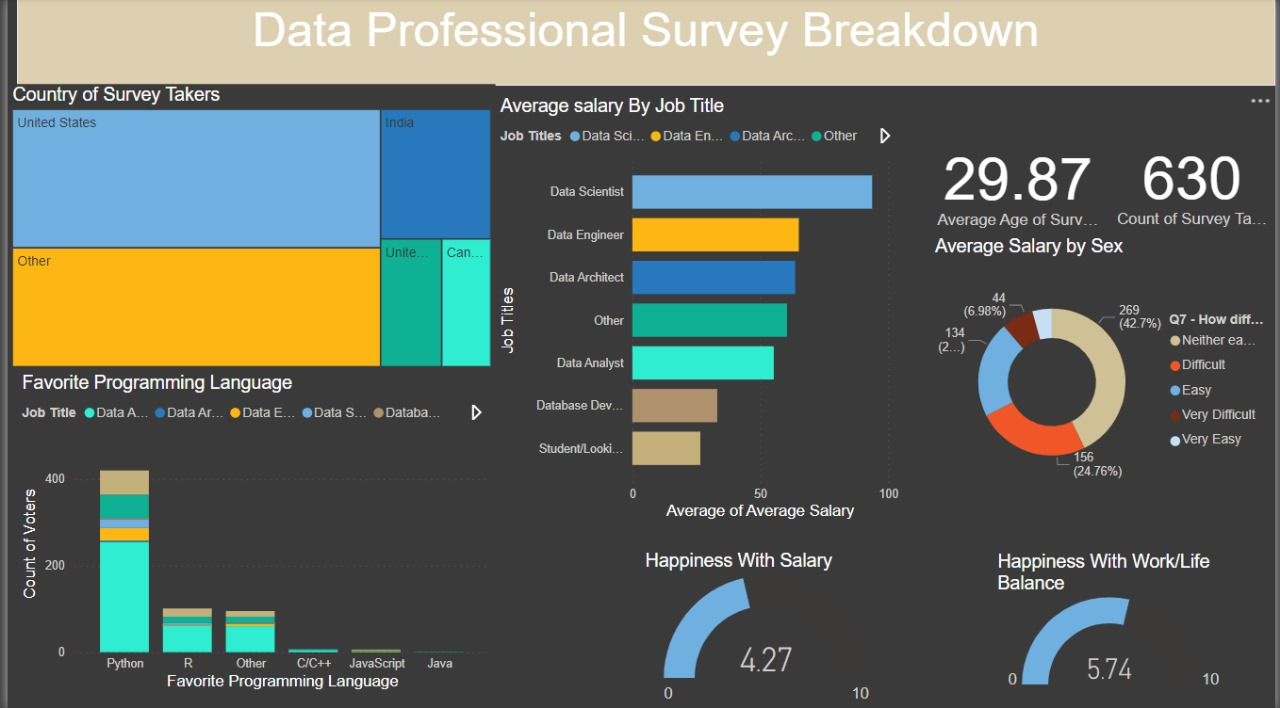

The page's visual inventory and layout, read from the dashboard file:
{"tool":"powerbi","page":{"name":"Page 1","canvas":[1280,720],"ordinal":0},"visuals":[{"type":"textbox","box":[9.6,0,1270.7,87.8],"z":0},{"type":"card","fields":{"Values":["Count(Data Professional Survey.Unique ID)"]},"box":[1112.5,110.4,167.7,150.5],"z":1000},{"type":"card","fields":{"Values":["Avg(Data Professional Survey.Q10 - Current Age)"]},"box":[931.9,111.8,177.8,149.1],"z":2000},{"type":"barChart","title":"Average salary By Job Title","fields":{"Category":["Data Professional Survey.Q1 - Which Title Best Fits your Current Role?.1"],"Y":["Avg(Data Professional Survey.Average Salary)"],"Series":["Data Professional Survey.Q1 - Which Title Best Fits your Current Role?.1"]},"box":[493.2,98.9,412.9,433],"z":3000},{"type":"columnChart","title":"  Favorite Programming Language","fields":{"Category":["Data Professional Survey.Q5 - Favorite Programming Language.1"],"Y":["CountNonNull(Data Professional Survey.Unique ID)"],"Series":["Data Professional Survey.Q1 - Which Title Best Fits your Current Role?.1"]},"box":[10,378.5,483.2,325.4],"z":4000},{"type":"treemap","title":"Country of Survey Takers","fields":{"Group":["Data Professional Survey.Q11 - Which Country do you live in?.1"],"Values":["CountNonNull(Data Professional Survey.Q11 - Which Country do you live in?.1)"]},"box":[0,87.5,493.2,291],"z":5000},{"type":"gauge","title":"Happiness With Salary","fields":{"Y":["Avg(Data Professional Survey.Q6 - How Happy are you in your Current Position with the following? (Salary))"],"MinValue":["Min(Data Professional Survey.Q6 - How Happy are you in your Current Position with the following? (Salary))"],"MaxValue":["Max(Data Professional Survey.Q6 - How Happy are you in your Current Position with the following? (Salary))"]},"box":[639.4,557.7,255.2,162],"z":5001},{"type":"gauge","title":"Happiness  With Work/Life Balance","fields":{"Y":["Avg(Data Professional Survey.Q6 - How Happy are you in your Current Position with the following? (Work/Life Balance))"],"MinValue":["Min(Data Professional Survey.Q6 - How Happy are you in your Current Position with the following? (Work/Life Balance))"],"MaxValue":["Max(Data Professional Survey.Q6 - How Happy are you in your Current Position with the following? (Work/Life Balance))"]},"box":[995,559.1,245.2,144.8],"z":5002},{"type":"donutChart","title":" Average Salary by Sex","fields":{"Category":["Data Professional Survey.Q7 - How difficult was it for you to break into Data?"],"Y":["CountNonNull(Data Professional Survey.Q7 - How difficult was it for you to break into Data?)"]},"box":[931.9,240.9,348.4,275.3],"z":5003}]}

Visuals, with their boxes in screenshot pixels (x1, y1, x2, y2), scaled from the page's 1280x720 canvas onto the 1280x708 screenshot:
textbox: (left=10, top=0, right=1279, bottom=86)
card - Count(Data Professional Survey.Unique ID): (left=1112, top=109, right=1279, bottom=257)
card - Avg(Data Professional Survey.Q10 - Current Age): (left=932, top=110, right=1110, bottom=257)
"Average salary By Job Title" barChart: (left=493, top=97, right=906, bottom=523)
"  Favorite Programming Language" columnChart: (left=10, top=372, right=493, bottom=692)
"Country of Survey Takers" treemap: (left=0, top=86, right=493, bottom=372)
"Happiness With Salary" gauge: (left=639, top=548, right=895, bottom=707)
"Happiness  With Work/Life Balance" gauge: (left=995, top=550, right=1240, bottom=692)
" Average Salary by Sex" donutChart: (left=932, top=237, right=1279, bottom=508)
